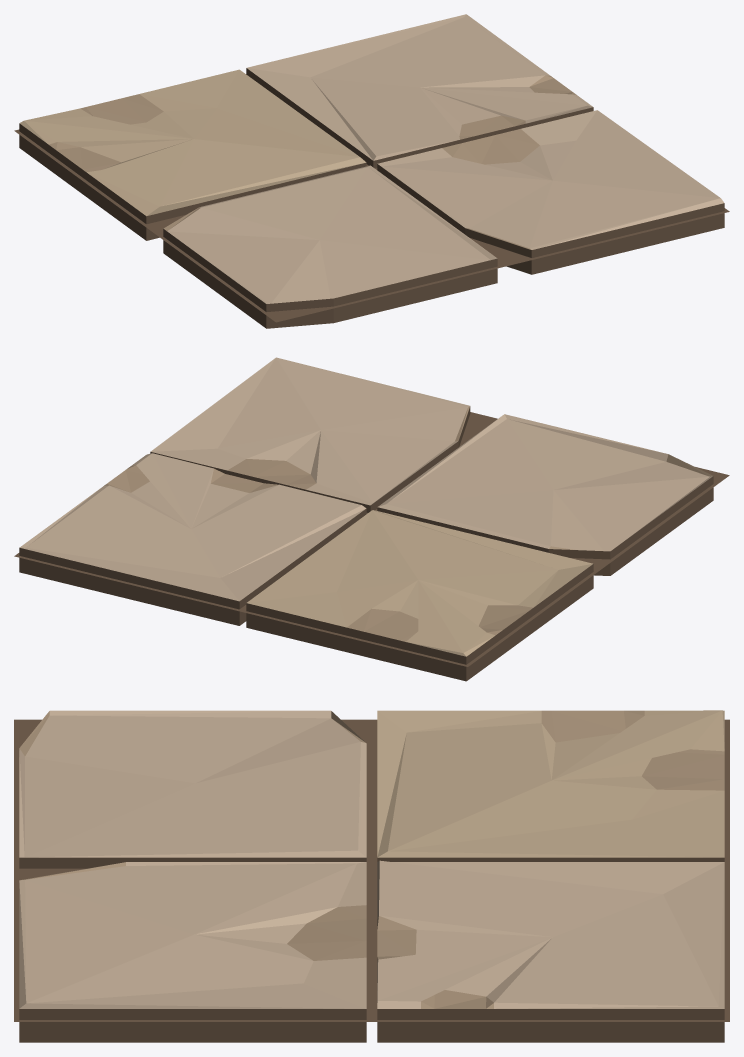
The model's file is SM_Ground_PavingTile_Rough_04.fbx.
3 renders of one model, top to bottom at view 1: azimuth 30°, elevation 25°; view 2: azimuth 150°, elevation 25°; view 3: azimuth 270°, elevation 25°, orthographic. The views are drawn at different scales.
Parts seen in each view (by area): view 1: SM_Ground_PavingTile_Rough_04; view 2: SM_Ground_PavingTile_Rough_04; view 3: SM_Ground_PavingTile_Rough_04.
Part boxes in pixels (x1,y1,x2,y2): SM_Ground_PavingTile_Rough_04: (14, 14, 729, 328); SM_Ground_PavingTile_Rough_04: (14, 357, 729, 681); SM_Ground_PavingTile_Rough_04: (14, 710, 729, 1042).
Size of the model in its own units: 1 by 0.0592 by 1.
1 material, 1 textured.
